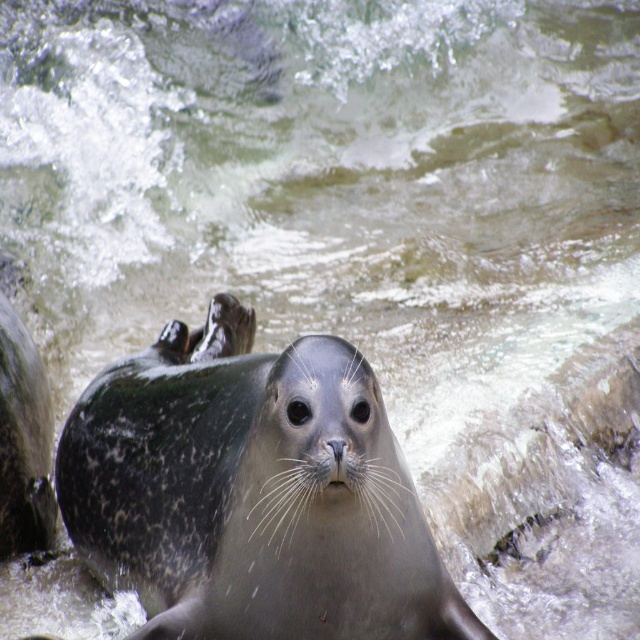Harbor seal: (54, 293, 498, 639)
